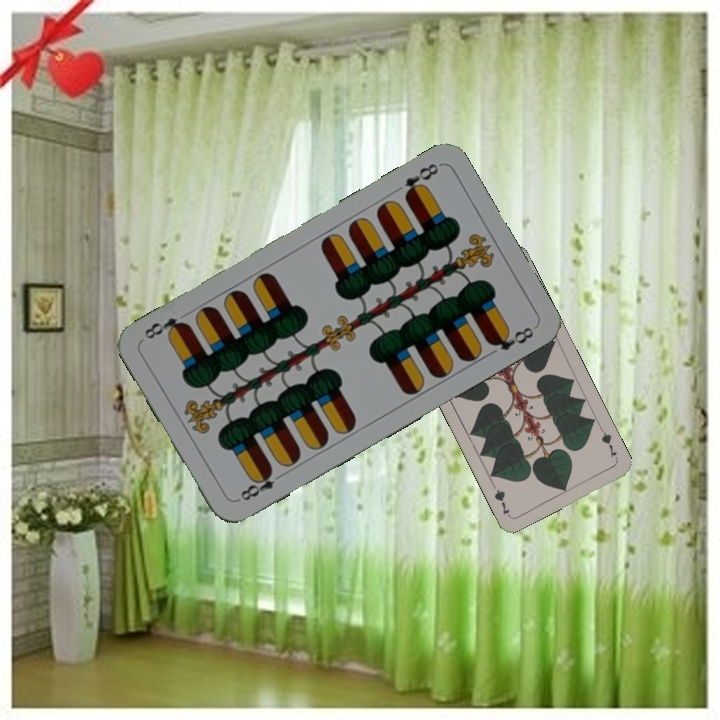E8: (233, 465, 287, 504), (400, 159, 442, 201)
G7: (597, 425, 621, 463)
